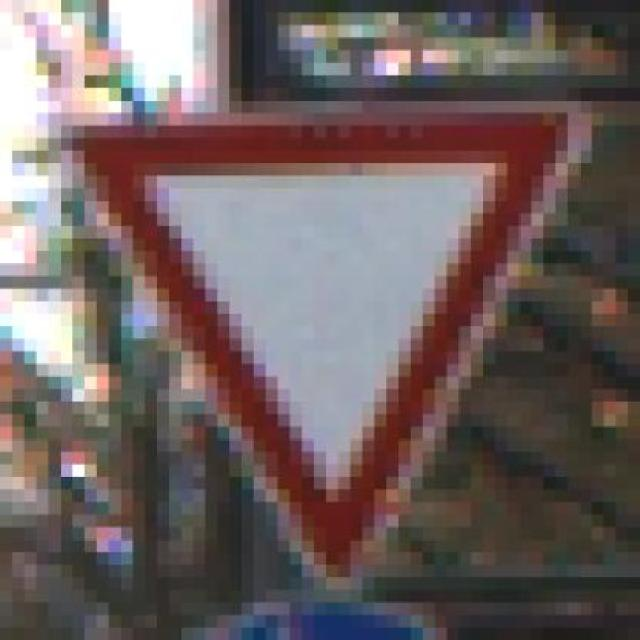Give Way: (36, 75, 604, 616)
